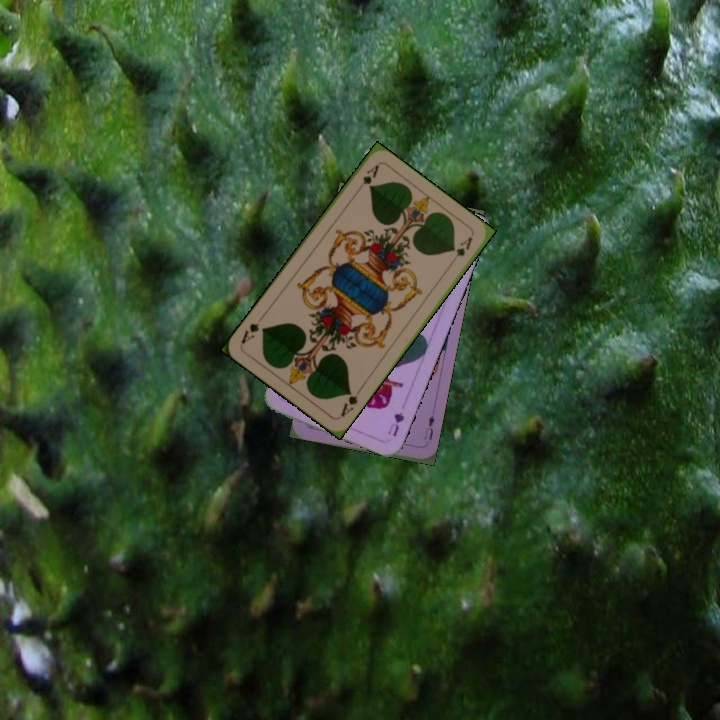EU: (420, 411, 437, 447)
GA: (352, 161, 381, 196), (336, 384, 364, 420)
GU: (383, 408, 407, 439)
